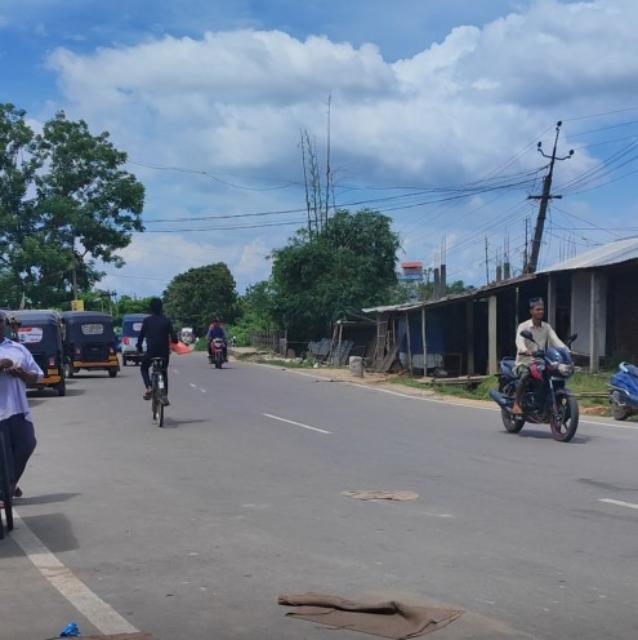licensePlate: (213, 338, 224, 342)
motorcycle: (492, 292, 581, 442), (208, 318, 229, 369)
withoutHelmet: (528, 294, 547, 320), (211, 320, 221, 329)
